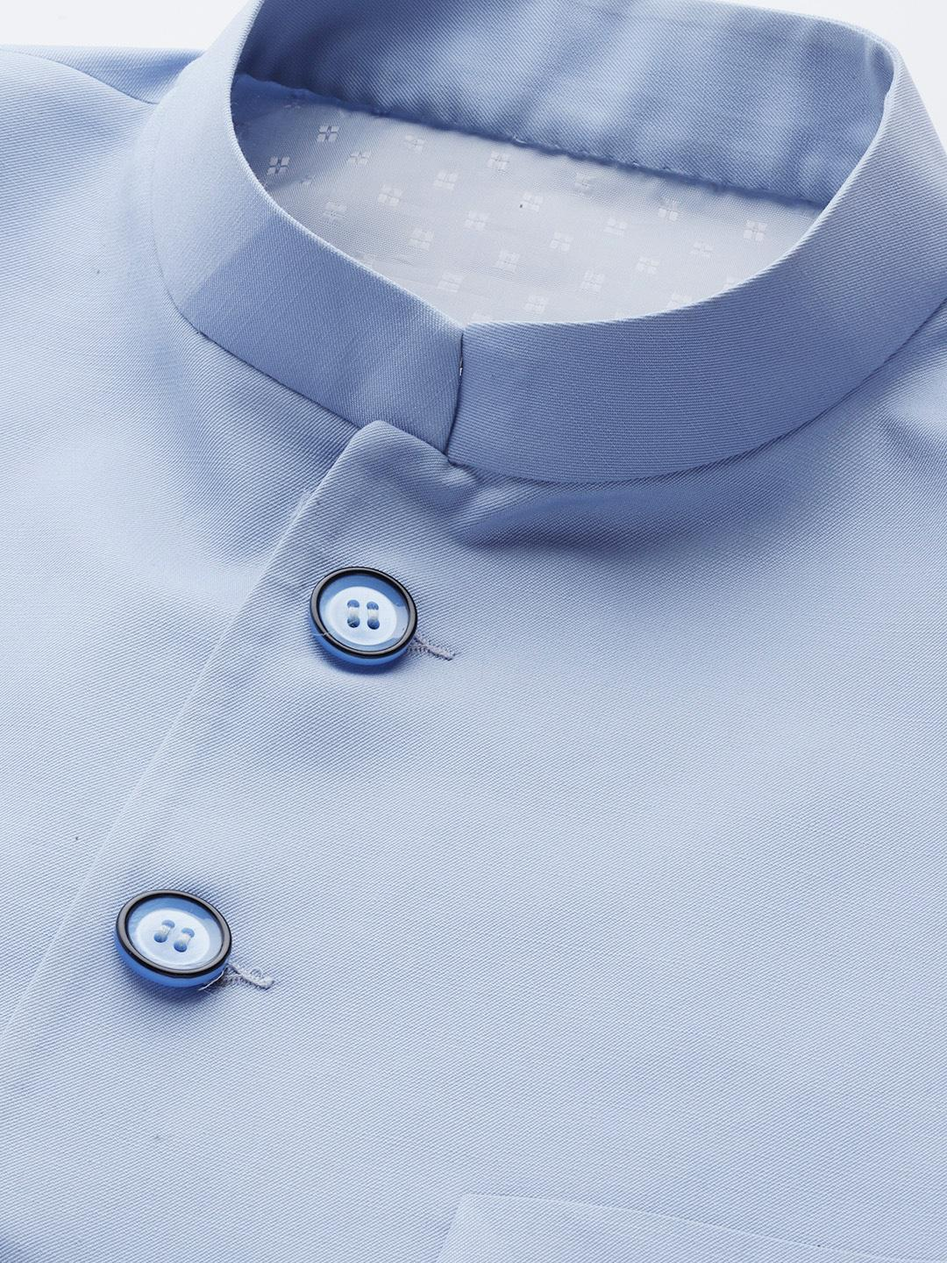Plain Sherwani: (1, 0, 945, 1258)
